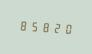eight: (40, 19, 50, 34), (18, 18, 28, 32)
five: (29, 18, 39, 33)
two: (51, 20, 61, 35)
zero: (62, 21, 72, 35)
